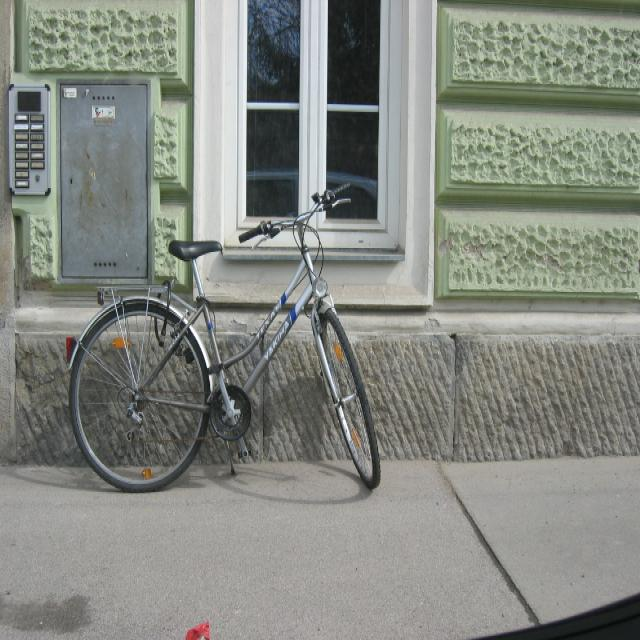bicycle: (66, 181, 381, 492)
